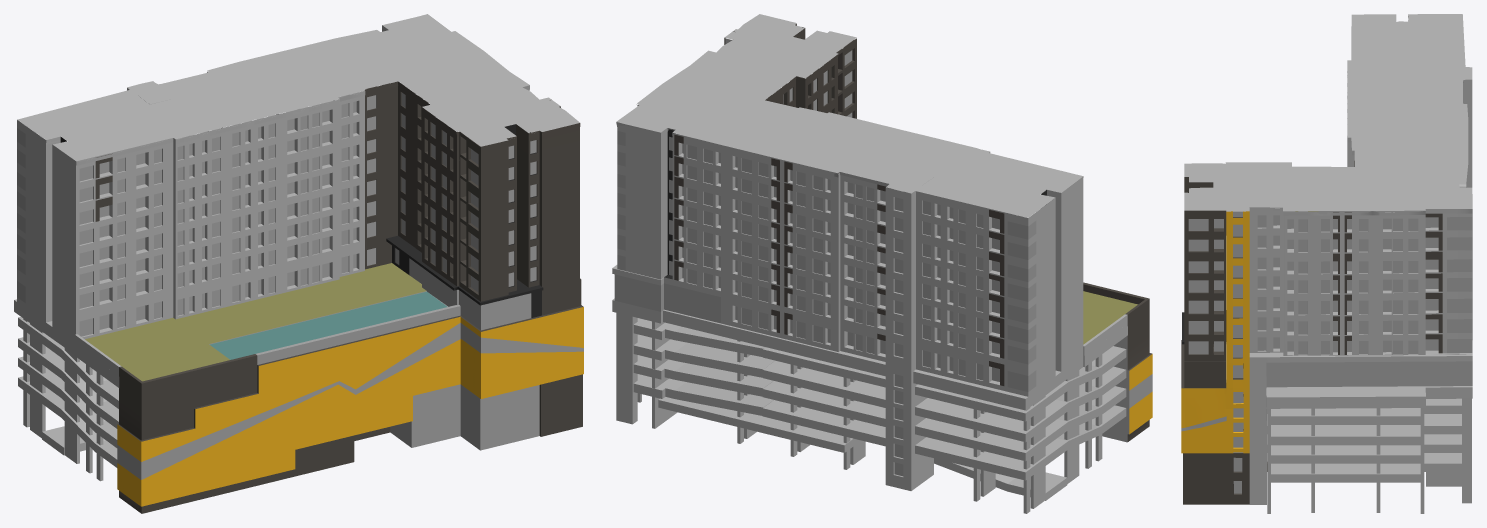
Rendered from cut_1-7.glb.
3 renders of one model, left to right at view 1: azimuth 30°, elevation 25°; view 2: azimuth 150°, elevation 25°; view 3: azimuth 270°, elevation 25°, orthographic. The views are drawn at different scales.
Parts seen in each view (by area): view 1: polySurface77 (×9); view 2: polySurface77 (×6); view 3: polySurface77 (×6).
Boxes of the visible parts, x1,y1,x2,y2 form: polySurface77 (×9): [14, 14, 583, 513]; polySurface77 (×6): [612, 14, 1152, 513]; polySurface77 (×6): [1181, 14, 1472, 513].
Bounding box in the file's own units: 4.69 × 3.1 × 2.77.
11 materials, 11 textured.
